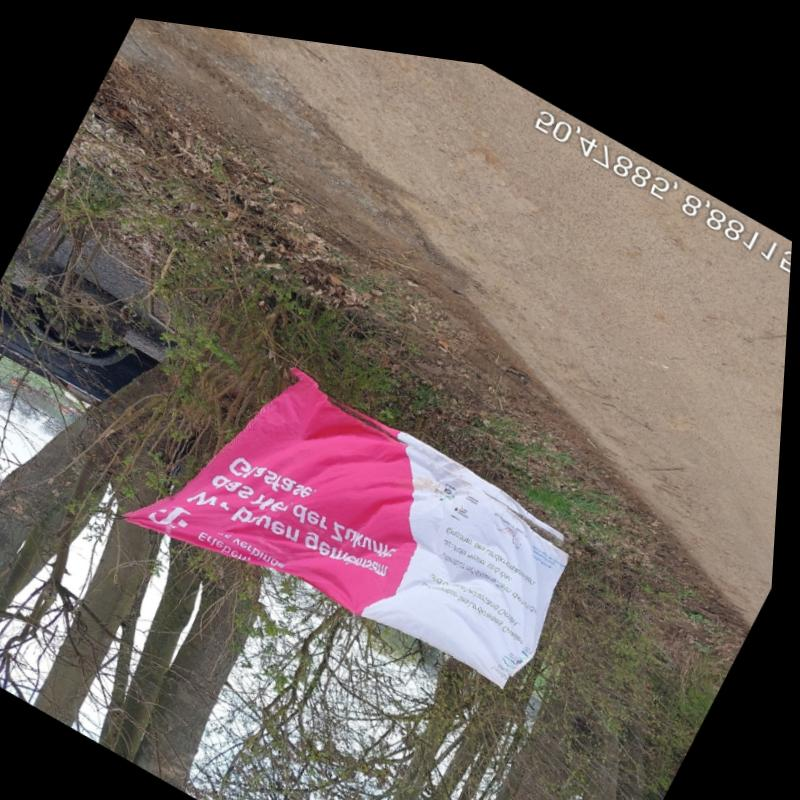Banner: (131, 364, 572, 668)
